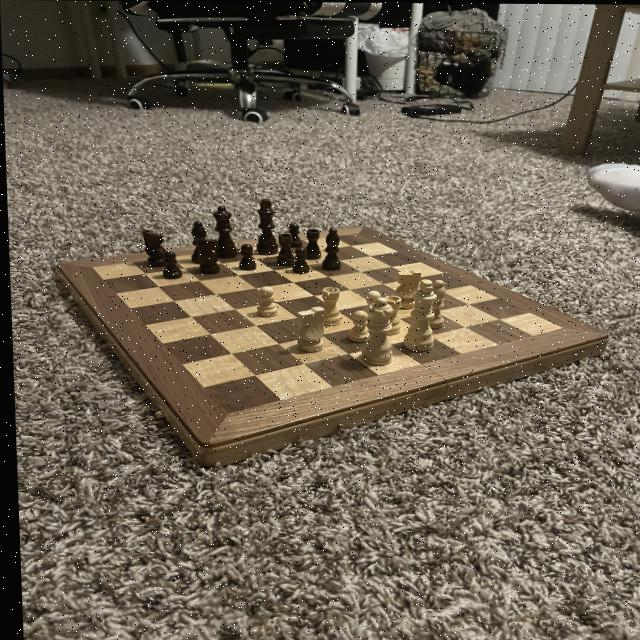bishop: (316, 226, 342, 272), (187, 220, 209, 265)
black-bishop: (252, 197, 279, 256)
black-king: (138, 229, 166, 268), (194, 237, 219, 275)
black-knight: (157, 249, 181, 281), (232, 242, 257, 271), (288, 245, 308, 275), (281, 221, 302, 248)
black-pawn: (211, 205, 236, 262)
black-queen: (298, 226, 321, 262), (271, 231, 294, 266)
black-rook: (418, 278, 447, 330)
white-bishop: (394, 277, 440, 351)
white-king: (291, 304, 326, 355), (389, 268, 422, 308)
white-knight: (342, 308, 369, 344), (356, 287, 382, 321), (252, 284, 277, 319)
white-pawn: (354, 298, 396, 368)
white-queen: (374, 293, 405, 336), (310, 284, 341, 327)
